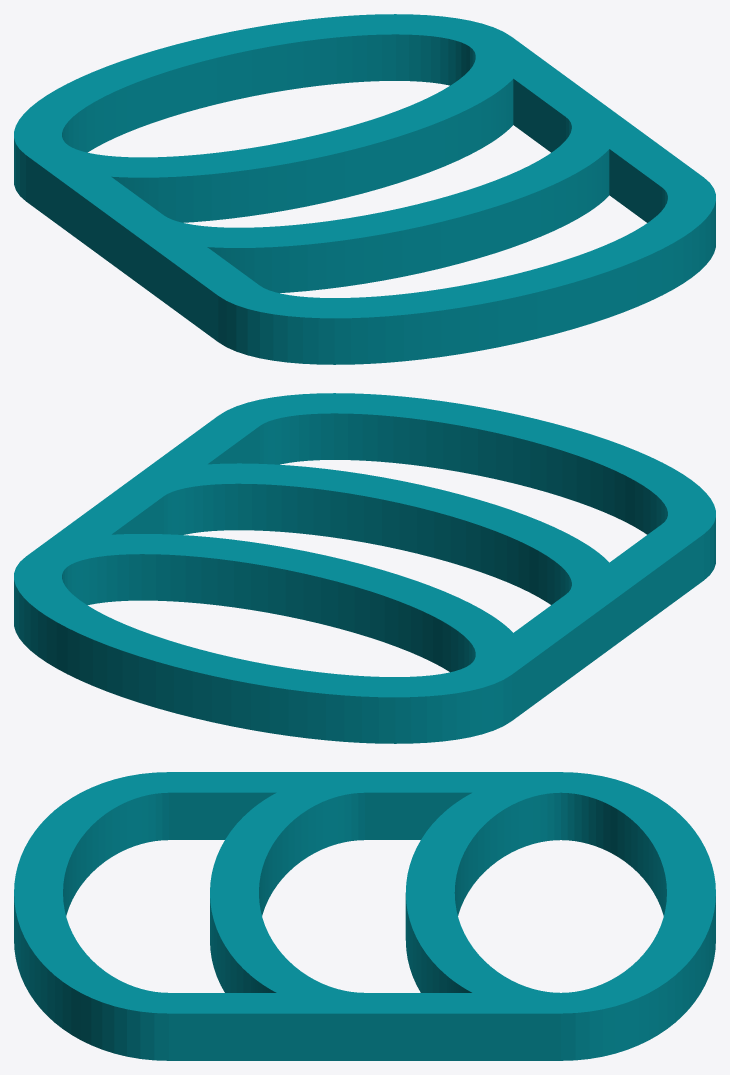
The picture shows the model from 3 angles, top to bottom: view 1: azimuth 30°, elevation 25°; view 2: azimuth 150°, elevation 25°; view 3: azimuth 270°, elevation 25°; orthographic projection.
Parts seen in each view (by area): view 1: Mesh_Mesh_head_geo.001_lambert2SG.001; view 2: Mesh_Mesh_head_geo.001_lambert2SG.001; view 3: Mesh_Mesh_head_geo.001_lambert2SG.001.
Part boxes in pixels (<box>): Mesh_Mesh_head_geo.001_lambert2SG.001: <box>14,14,715,364</box>; Mesh_Mesh_head_geo.001_lambert2SG.001: <box>14,393,715,743</box>; Mesh_Mesh_head_geo.001_lambert2SG.001: <box>14,772,715,1060</box>.
Size of the model in its own units: 109 by 10 by 134.
